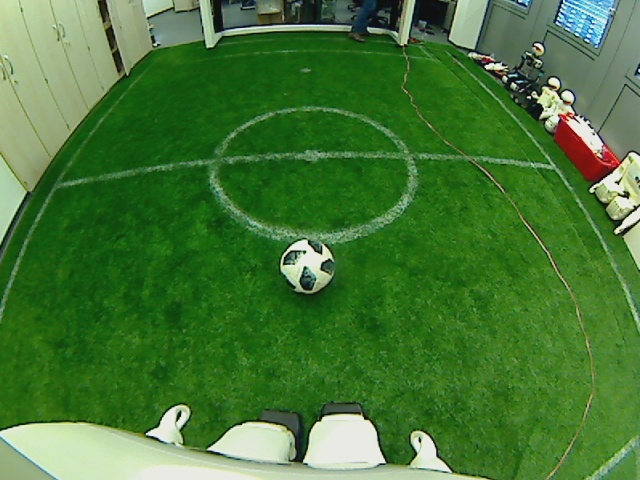ball: (277, 236, 338, 294)
